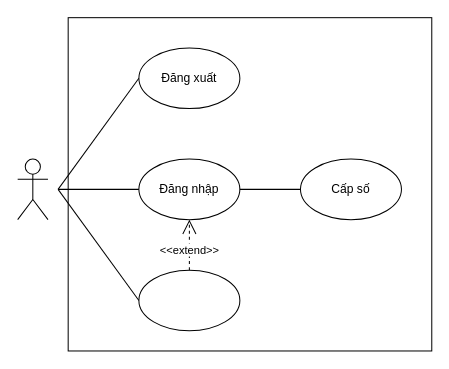
The diagram is 449 pixels wide and 369 high, and some of its shapes have lost their labels. The shapes that lost their labels are listed below. From the top down, each one's centre as x and y in pixels, then its label:
[32,189]: Actor
[189,300]: Reset mật khẩu
